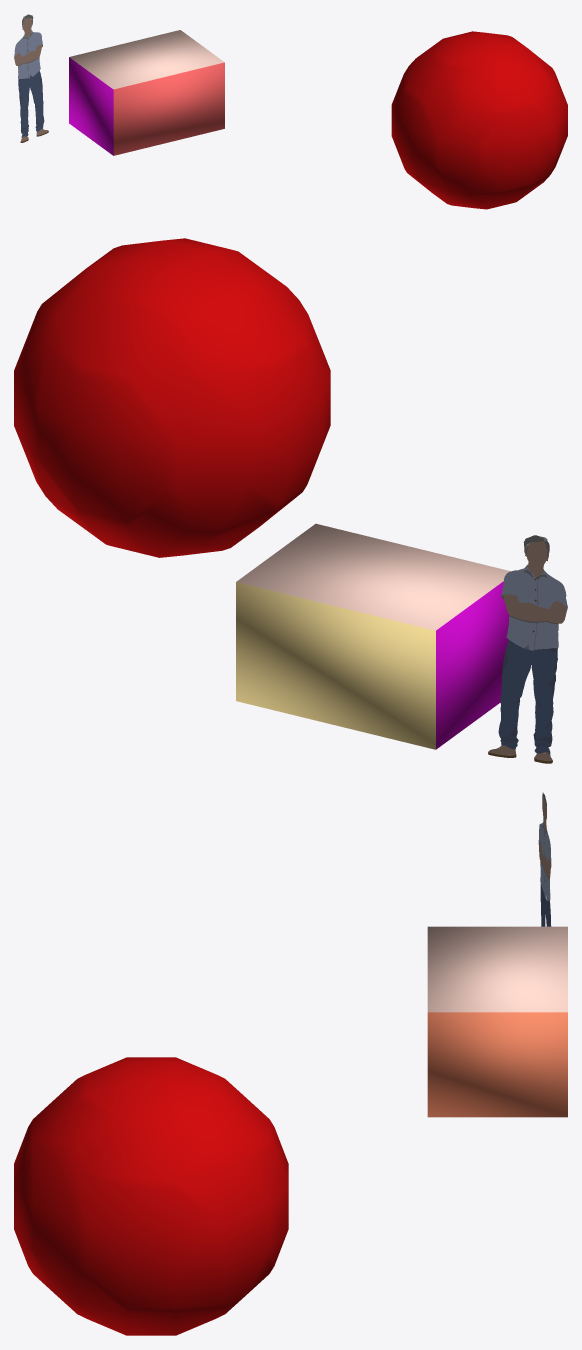
File: agoravai.obj
3 views of the same model, one above another, from view 1: azimuth 30°, elevation 25°; view 2: azimuth 150°, elevation 25°; view 3: azimuth 270°, elevation 25° (orthographic). The views are drawn at different scales.
Parts seen in each view (by area): view 1: bola, cara_e_caixa; view 2: bola, cara_e_caixa; view 3: bola, cara_e_caixa.
Boxes of the visible parts, <box> form: bola: <box>391,31,567,209</box>; cara_e_caixa: <box>14,14,224,155</box>; bola: <box>14,238,330,557</box>; cara_e_caixa: <box>236,523,567,763</box>; bola: <box>14,1057,288,1335</box>; cara_e_caixa: <box>427,792,567,1117</box>.
Bounding box in the file's own units: 6.2 × 2.45 × 4.5.
